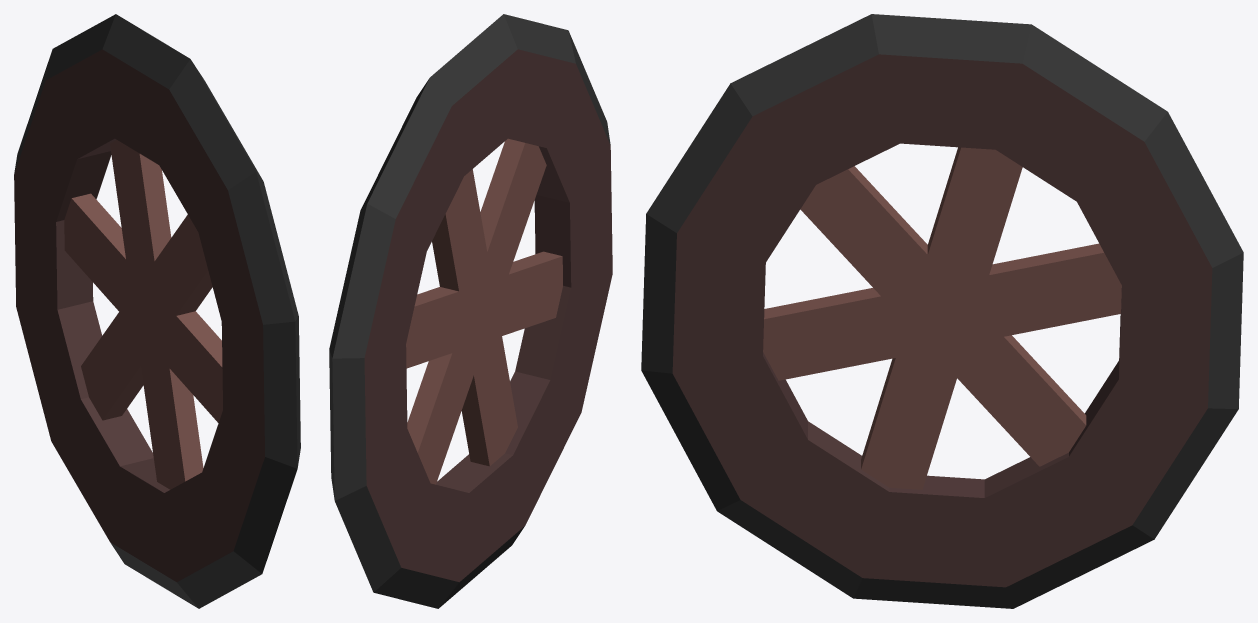
File: DarkRoseWoodMechSmallLiftWheel1.fbx
3 renders of one model, left to right at view 1: azimuth 30°, elevation 25°; view 2: azimuth 150°, elevation 25°; view 3: azimuth 270°, elevation 25°, orthographic. The views are drawn at different scales.
Parts seen in each view (by area): view 1: DarkRoseWoodMechSmallLiftWheel1; view 2: DarkRoseWoodMechSmallLiftWheel1; view 3: DarkRoseWoodMechSmallLiftWheel1.
Part boxes in pixels (left/top/right/bottom): DarkRoseWoodMechSmallLiftWheel1: left=14, top=14, right=300, bottom=608; DarkRoseWoodMechSmallLiftWheel1: left=329, top=14, right=612, bottom=608; DarkRoseWoodMechSmallLiftWheel1: left=641, top=14, right=1243, bottom=608.
Bounding box in the file's own units: 59.89 × 886 × 813.
